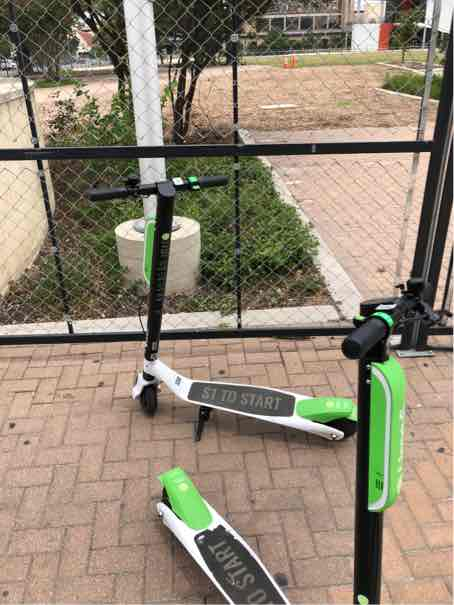scooter: (94, 149, 373, 463)
